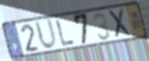2: (20, 22, 41, 53)
3: (93, 11, 111, 41)
7: (72, 12, 89, 46)
L: (55, 19, 77, 48)
U: (33, 18, 59, 52)
X: (107, 7, 134, 40)
